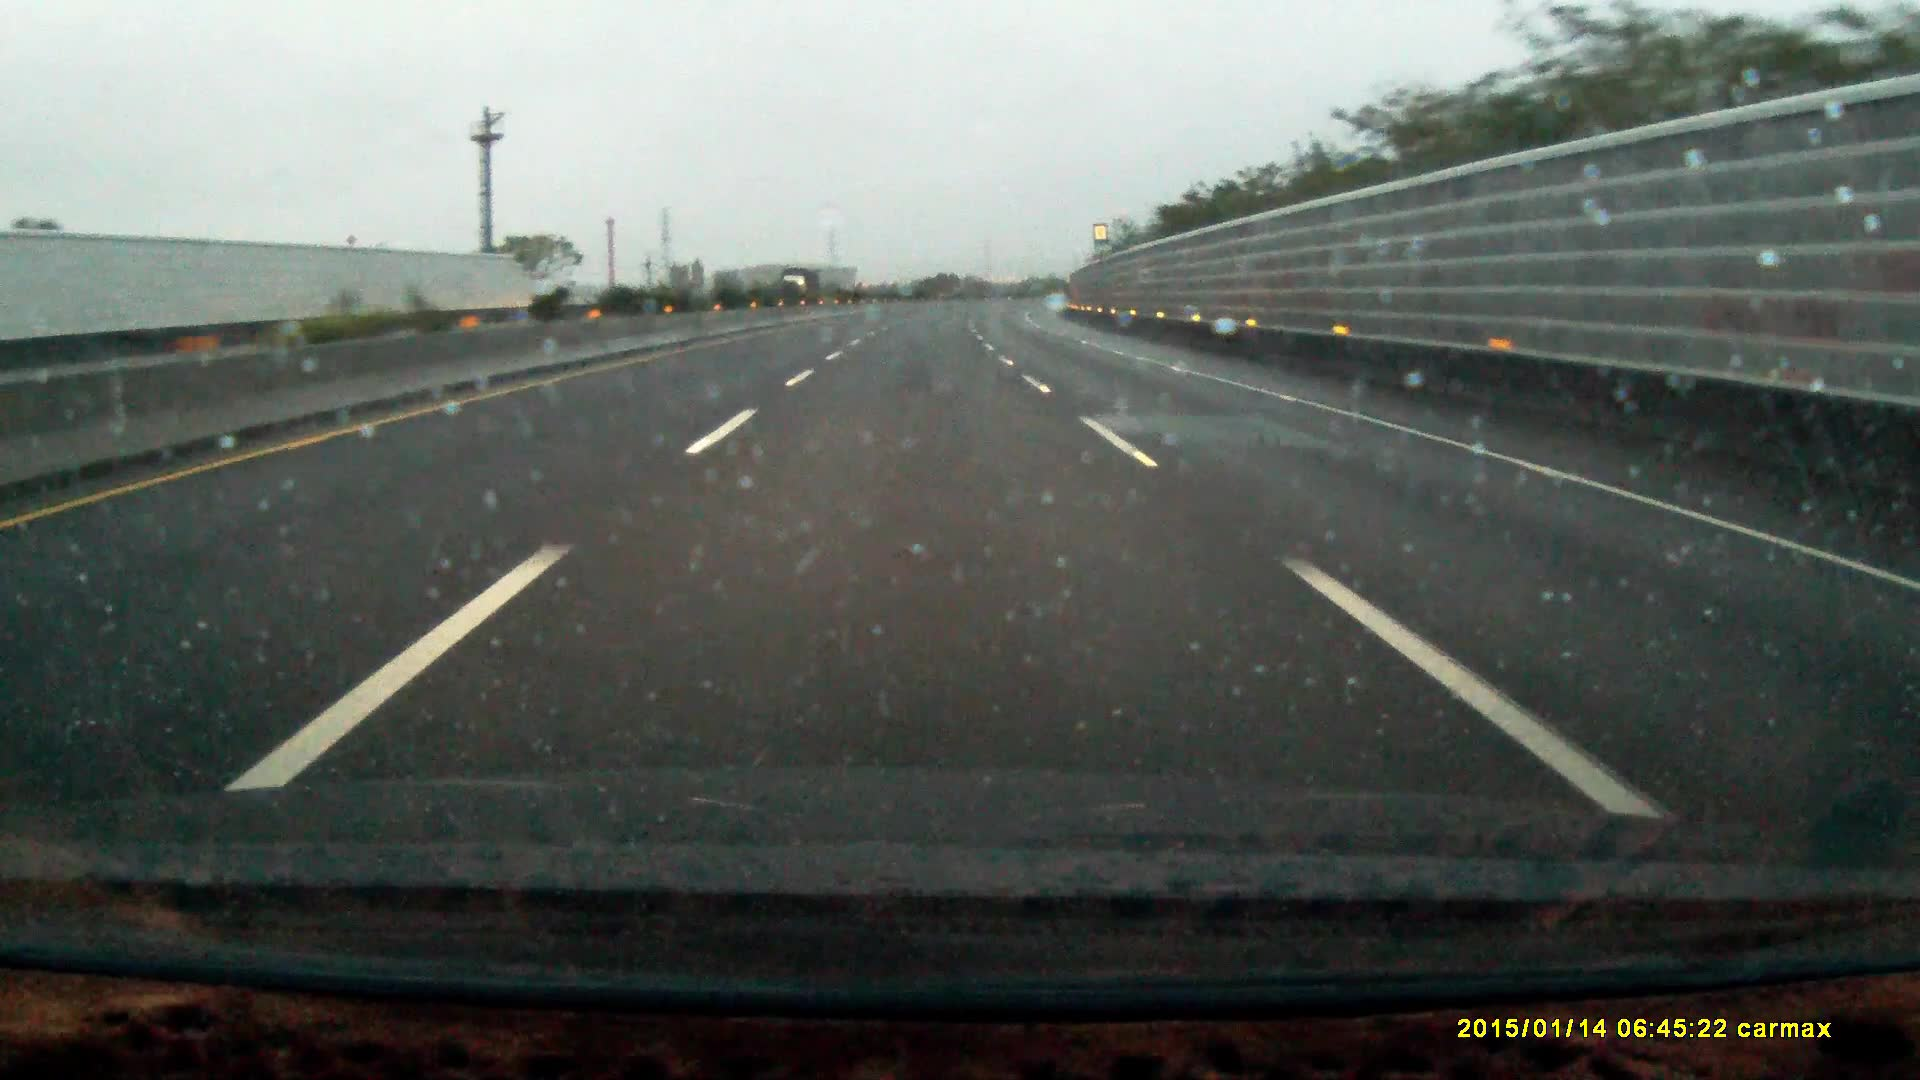vehicle: (781, 266, 822, 303)
